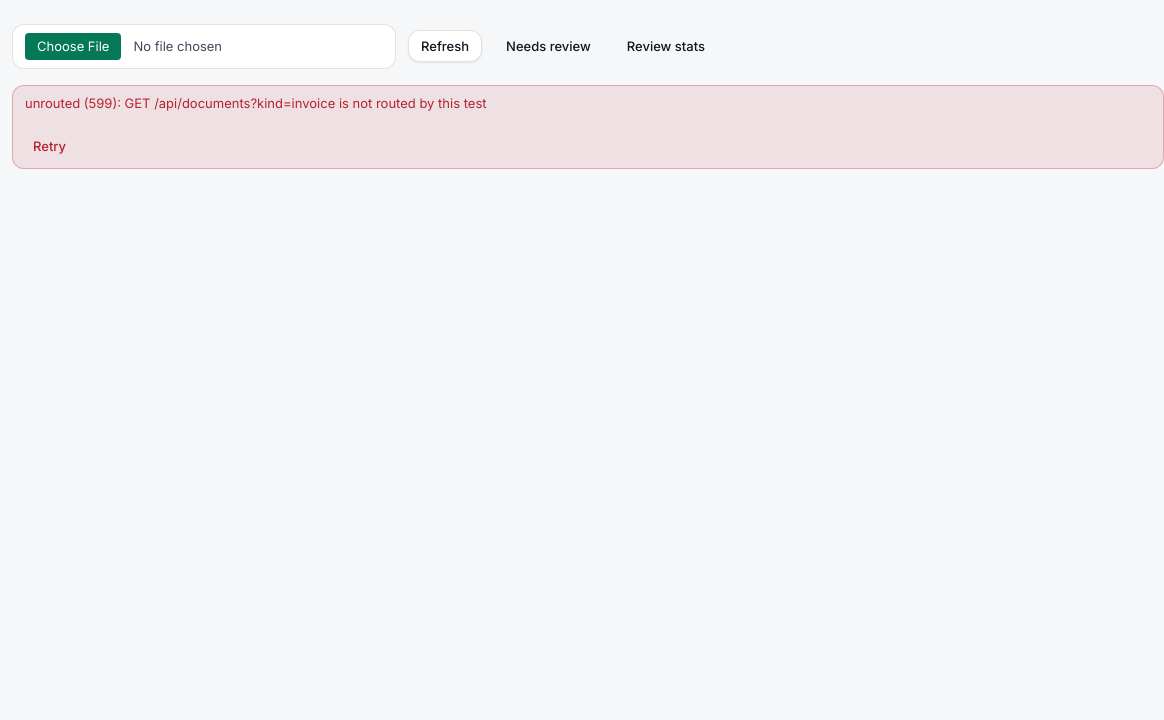
Test case: DocumentManager review mode › re-checks on demand and paints the newest findings
Click the button "Needs review" at [548, 46], box [494,30,603,62]
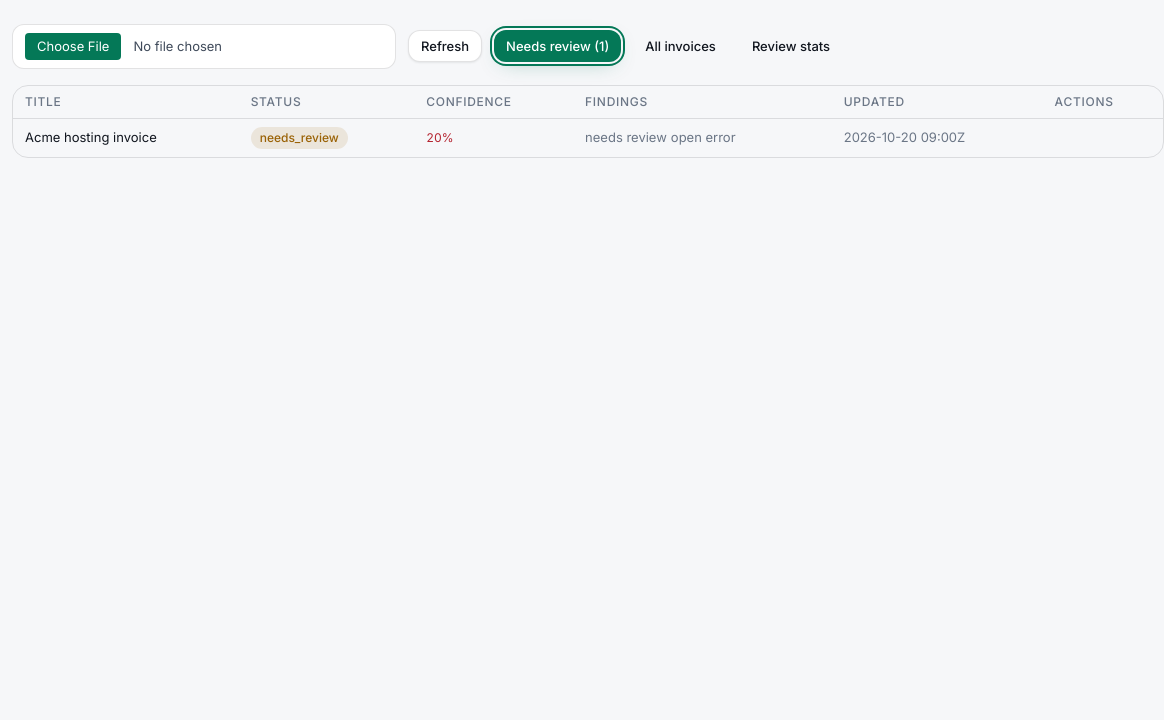
Click the button "Acme hosting invoice" at [91, 138], box [25,128,157,147]
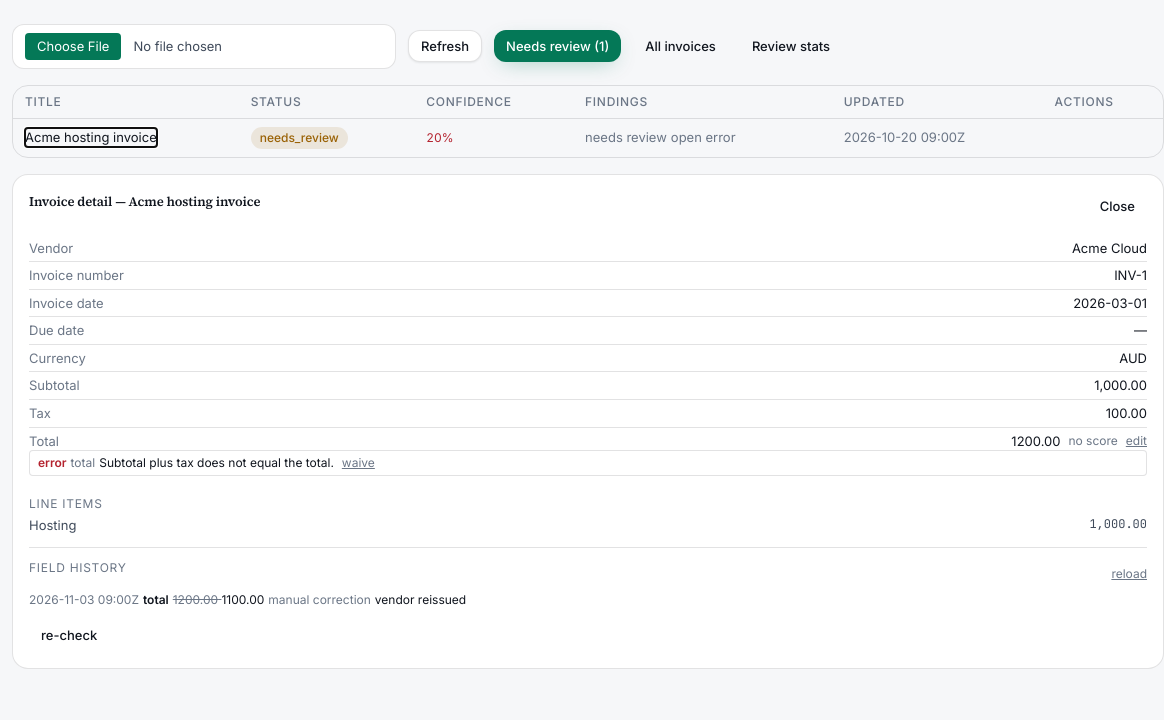
Check: the text "Subtotal plus tax does not equal the total." is shown, box [99,455,334,470]
Click the button "re-check" at [69, 636], box [29,620,109,652]
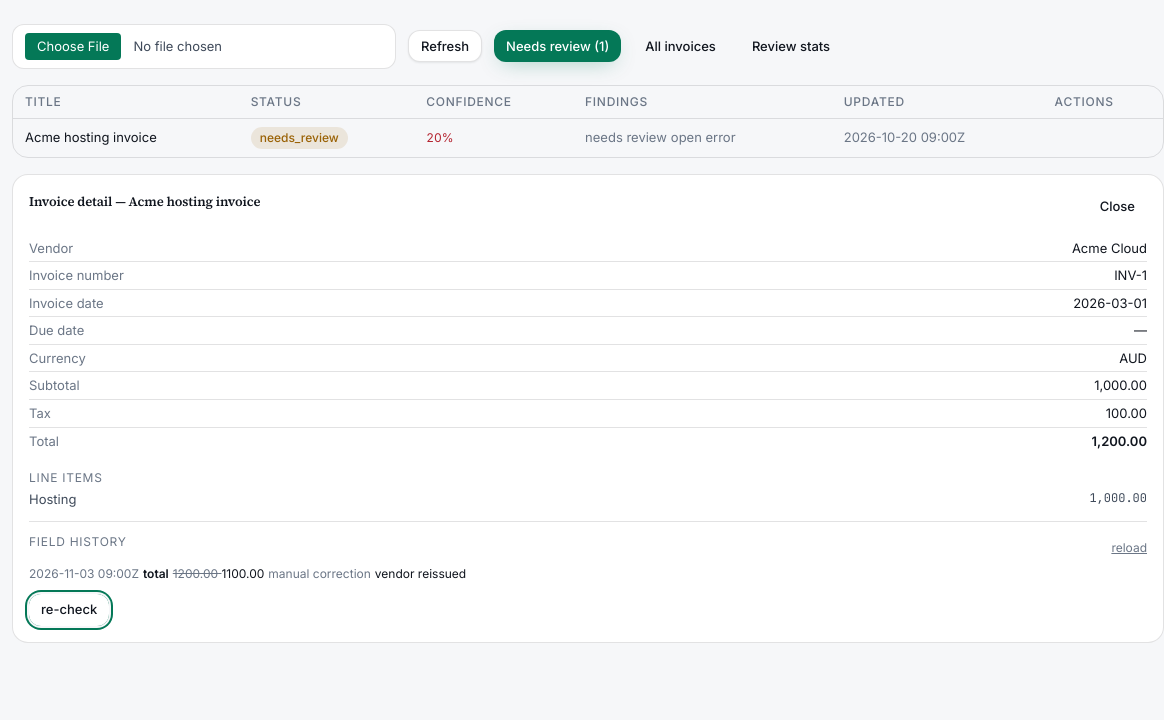
Check: the text "Subtotal plus tax does not equal the total." is gone
